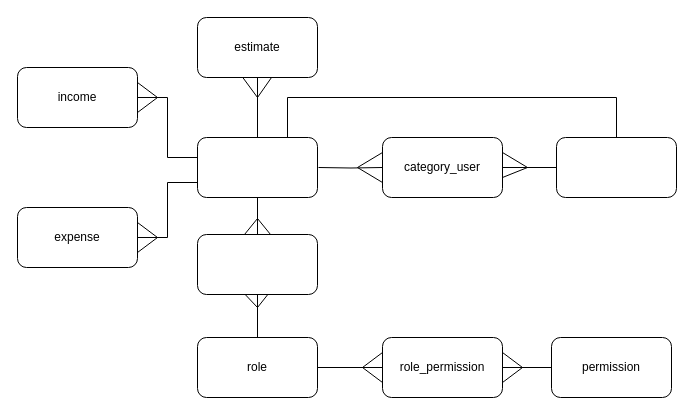
The diagram is 694 pixels wide and 415 high, and some of its shapes have lost their labels. The centre of each missing label's shape, as x and y in pixels:
"category" goes at pixel 616 167.
"role_user" goes at pixel 257 264.
"user" goes at pixel 257 167.
